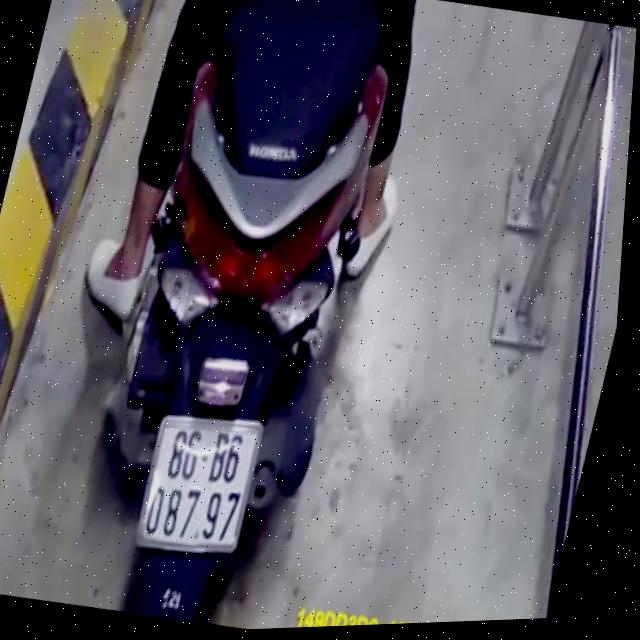motorcycle: (41, 0, 430, 637)
plate: (124, 404, 271, 564)
